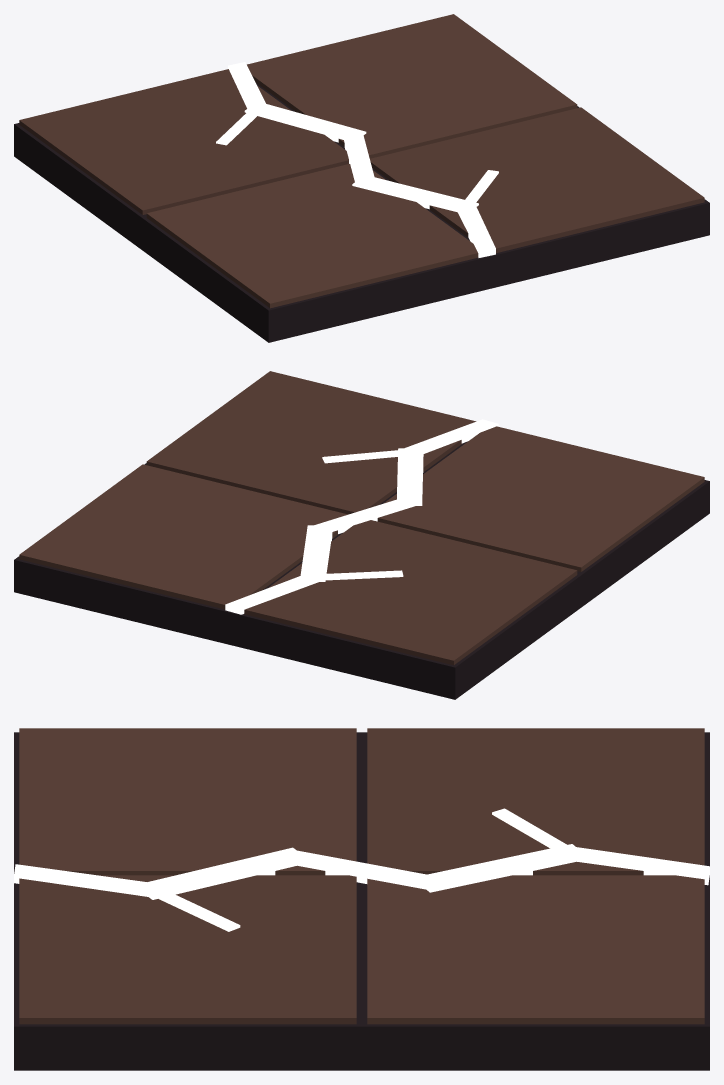
The model's file is floor_vein_4m.glb.
3 views of the same model, one above another, from view 1: azimuth 30°, elevation 25°; view 2: azimuth 150°, elevation 25°; view 3: azimuth 270°, elevation 25° (orthographic). The views are drawn at different scales.
Parts seen in each view (by area): view 1: floor_vein_4m; view 2: floor_vein_4m; view 3: floor_vein_4m.
Boxes of the visible parts, bbox=[...] form: floor_vein_4m: bbox=[14, 14, 709, 342]; floor_vein_4m: bbox=[14, 371, 709, 699]; floor_vein_4m: bbox=[14, 728, 709, 1070].
Size of the model in its own units: 4 by 0.335 by 4.
